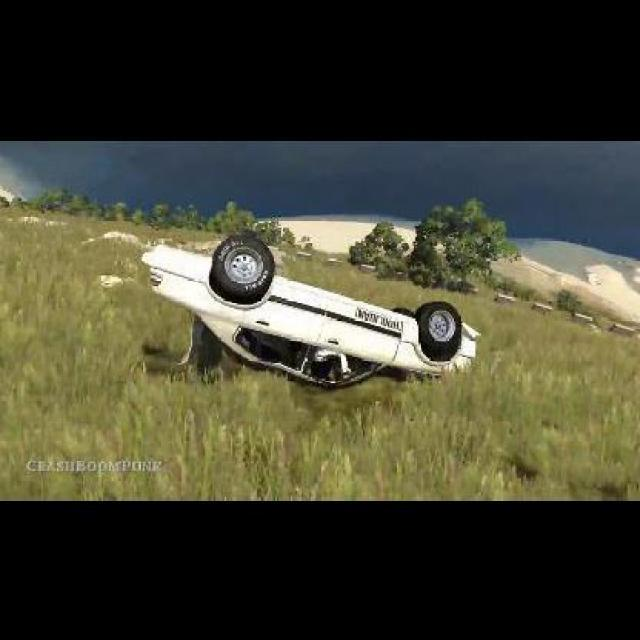accident: (132, 227, 480, 407)
